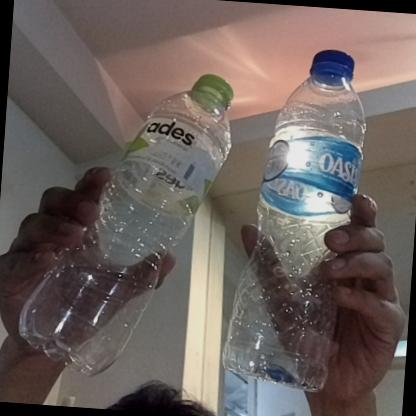plastic_bottles: (12, 61, 235, 379), (225, 41, 370, 378)
